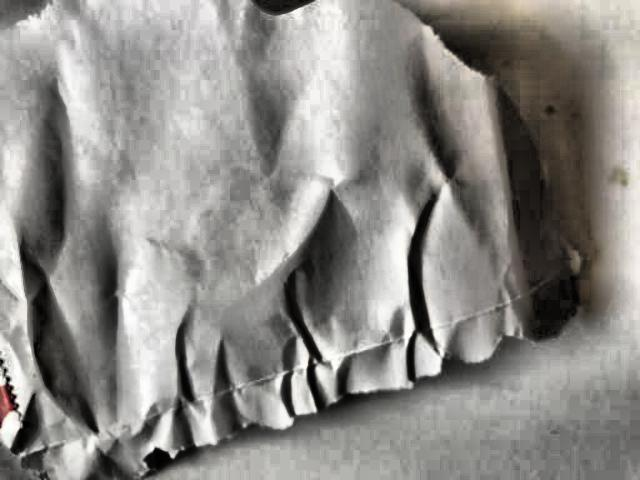Paper: (0, 0, 584, 480)
